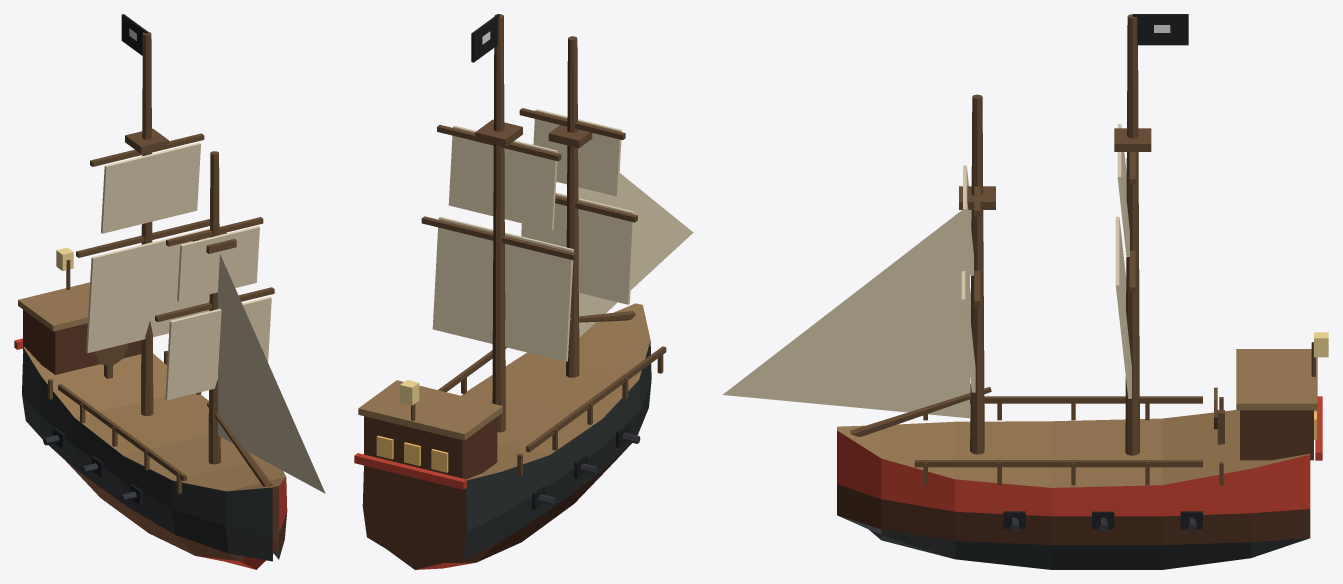
Rendered from Pirate_Ship.glb.
The picture shows the model from 3 angles, left to right: view 1: azimuth 30°, elevation 25°; view 2: azimuth 150°, elevation 25°; view 3: azimuth 270°, elevation 25°; orthographic projection. The views are drawn at different scales.
Visible parts, largest first — view 1: Pirate_Ship; view 2: Pirate_Ship; view 3: Pirate_Ship.
Part boxes in pixels (bbox=[...]): Pirate_Ship: bbox=[14, 14, 325, 569]; Pirate_Ship: bbox=[354, 14, 693, 569]; Pirate_Ship: bbox=[722, 14, 1328, 569].
Bounding box in the file's own units: 2.74 × 8.23 × 8.2.
1 material, 1 textured.
